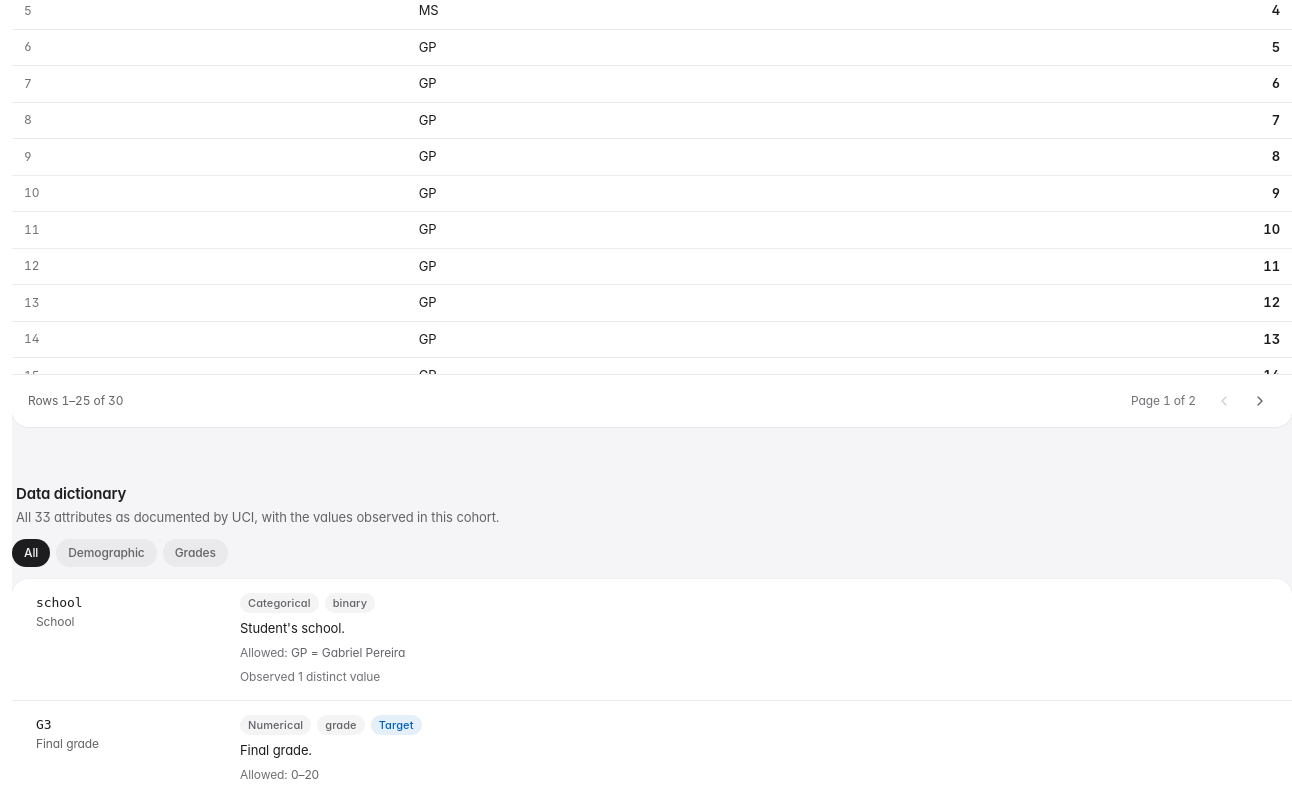
Test: DataExplorer › paginates records
(page scrolled)
Expected: the text "Rows 1–25 of 30" is shown, [28, 392, 124, 410]
Step 1. Click the button named "Next page" → (1260, 401), box [1244, 385, 1276, 417]
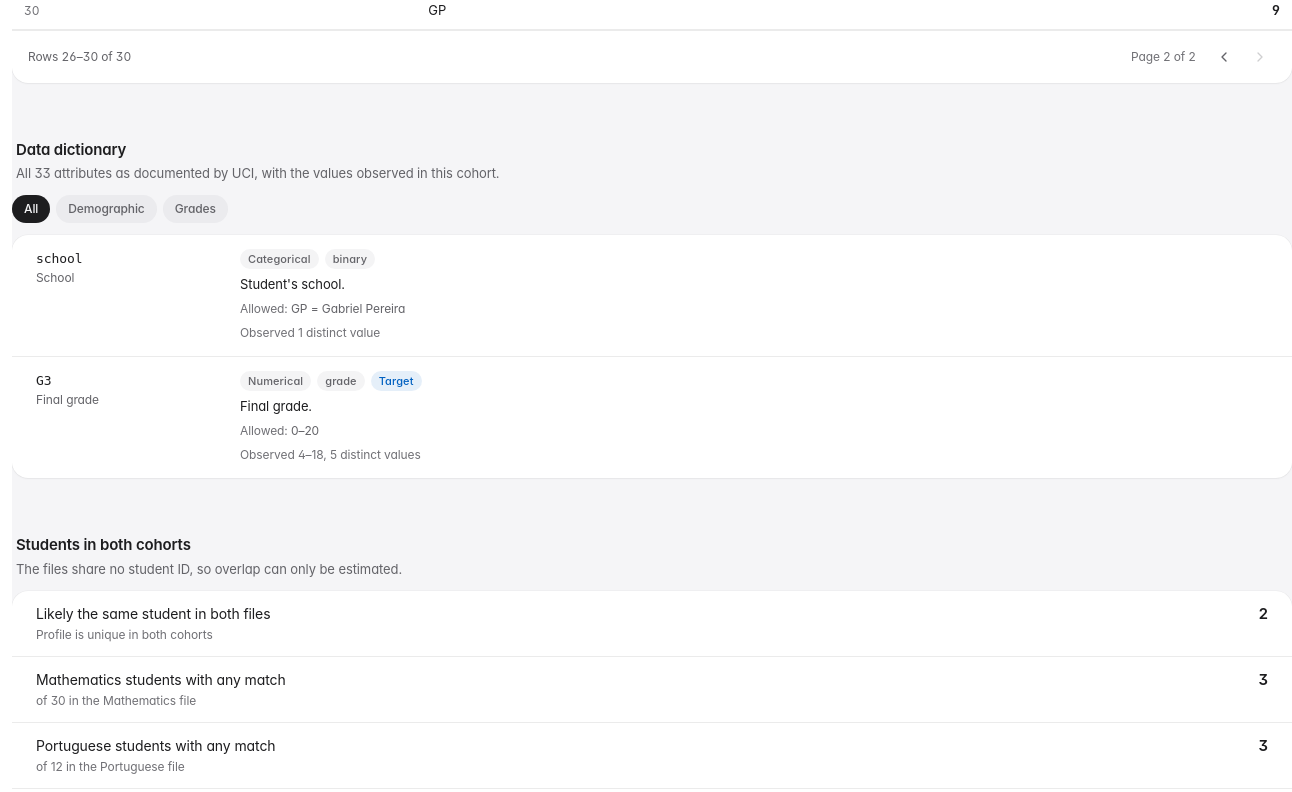
Expected: the button named "Next page" is disabled, [1244, 41, 1276, 73]
Result: the text "Rows 26–30 of 30" is shown at [28, 48, 131, 66]
